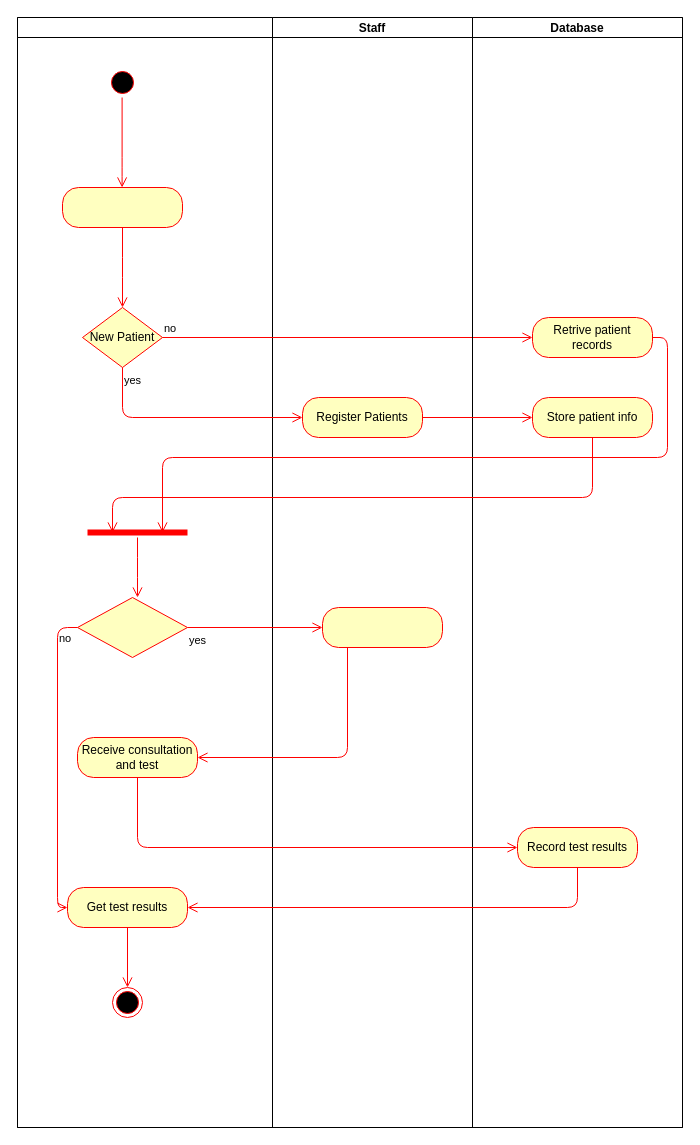
Image size: 700x1145. Some labels were removed from this diagram. Each missing label, with the box of its shape:
Check Doctor Availability: (322, 606, 442, 648)
Login: (62, 186, 182, 228)
Scjhedule Appointment: (76, 596, 188, 658)
User: (16, 16, 272, 1128)
